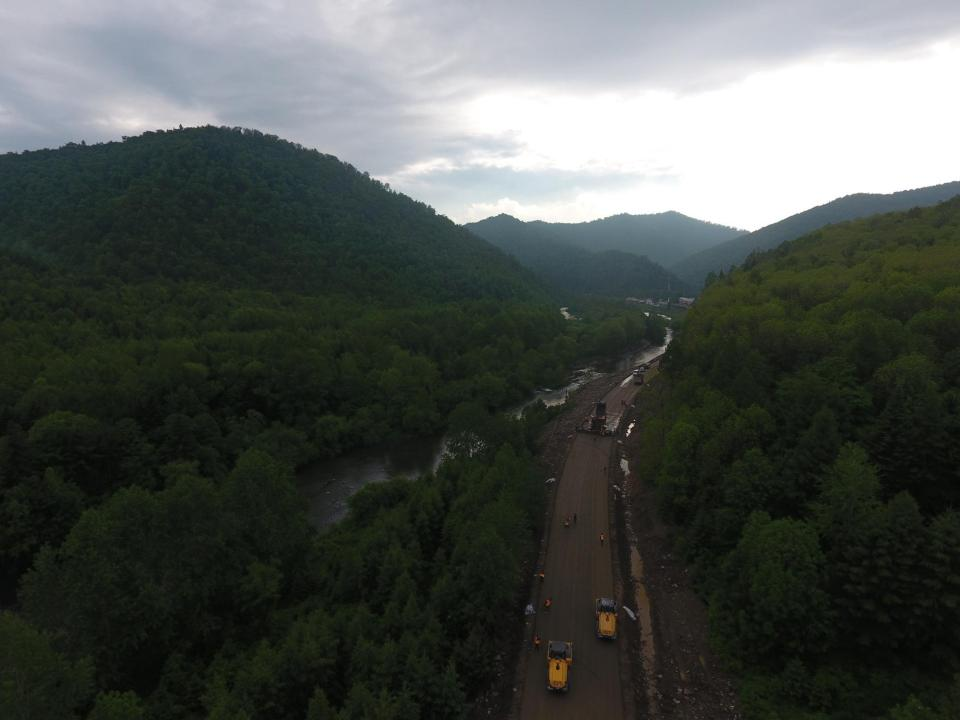truck: (634, 374, 644, 385), (644, 362, 651, 368)
van: (633, 370, 639, 376), (640, 368, 644, 371)
